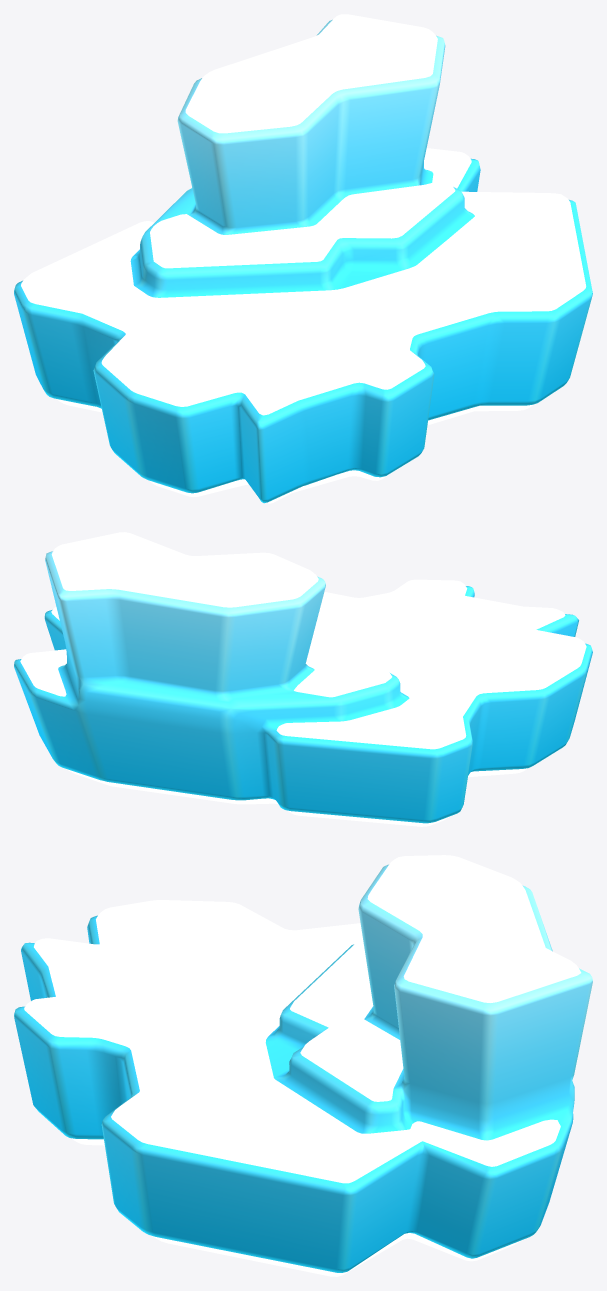
Rendered from ice_snow_001.glb.
3 renders of one model, top to bottom at view 1: azimuth 30°, elevation 25°; view 2: azimuth 150°, elevation 25°; view 3: azimuth 270°, elevation 25°, orthographic. The views are drawn at different scales.
Parts seen in each view (by area): view 1: ice_snow_001; view 2: ice_snow_001; view 3: ice_snow_001.
Boxes of the visible parts, x1,y1,x2,y2 form: ice_snow_001: [14, 14, 592, 503]; ice_snow_001: [14, 532, 592, 826]; ice_snow_001: [14, 855, 592, 1276].
Bounding box in the file's own units: 7.44 × 3.3 × 6.39.
Materials: 2 (2 with a texture image).
